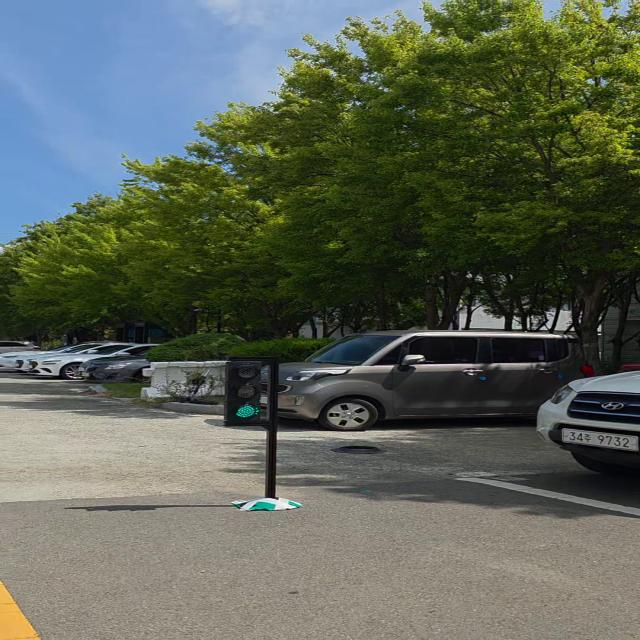green: (225, 358, 264, 428)
